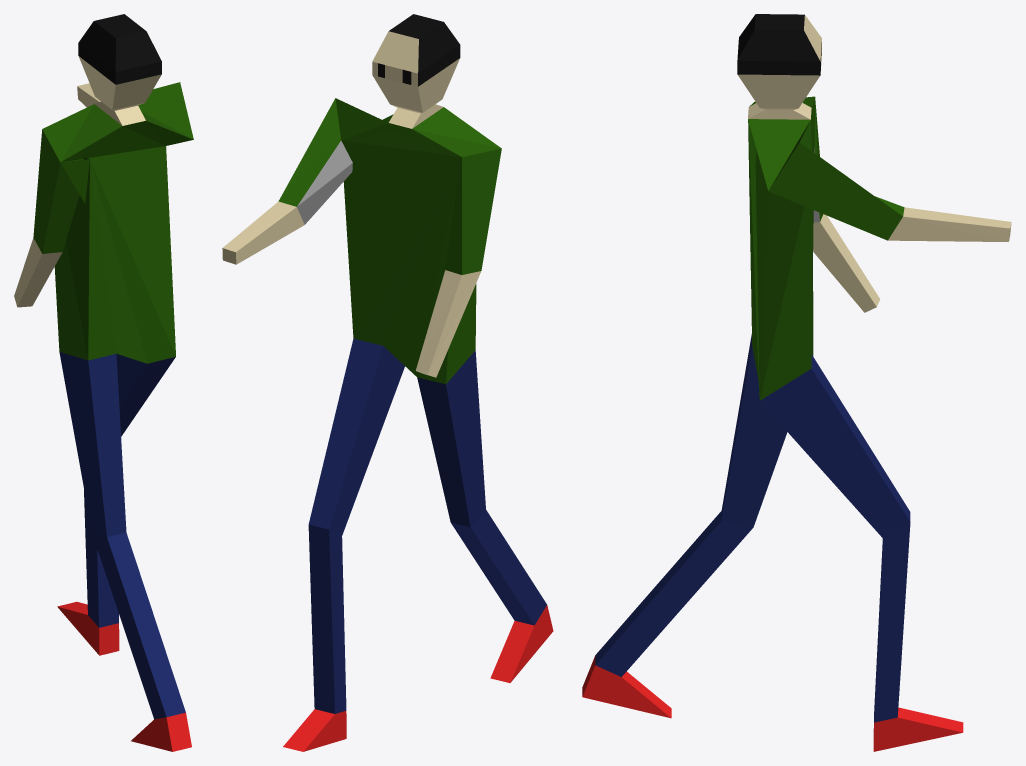
Rendered from model_combat.obj.
3 views of the same model, side by side, from view 1: azimuth 30°, elevation 25°; view 2: azimuth 150°, elevation 25°; view 3: azimuth 270°, elevation 25° (orthographic). The views are drawn at different scales.
Parts seen in each view (by area): view 1: Box003; view 2: Box003; view 3: Box003.
Boxes of the visible parts, bbox=[...] form: Box003: bbox=[14, 14, 193, 751]; Box003: bbox=[222, 14, 553, 751]; Box003: bbox=[582, 14, 1011, 751].
Size of the model in its own units: 3.25 by 13.66 by 7.51.
